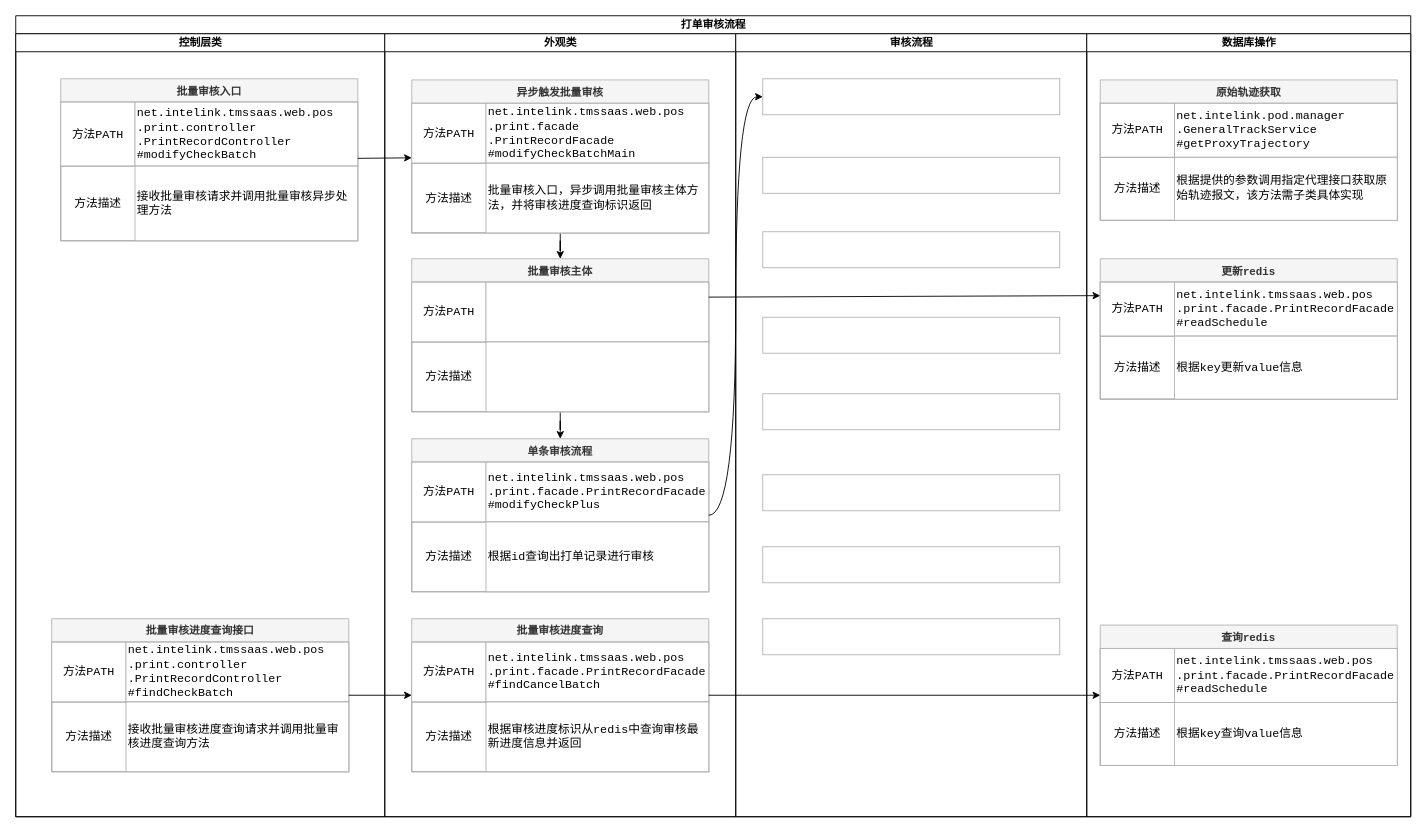
Image size: 1427x833. Some labels were removed from this diagram. The shapes that lost their labels are listed below. From the top down, each one's centre as x and y in pixels, then its label:
(x=597, y=311): net.intelink.tmssaas.web.pos .print.facade.PrintRecordFacade #modifyCheckBatch
(x=597, y=376): 批量审核主体,遍历触发多条打单记录的审核以及审核进度更新
